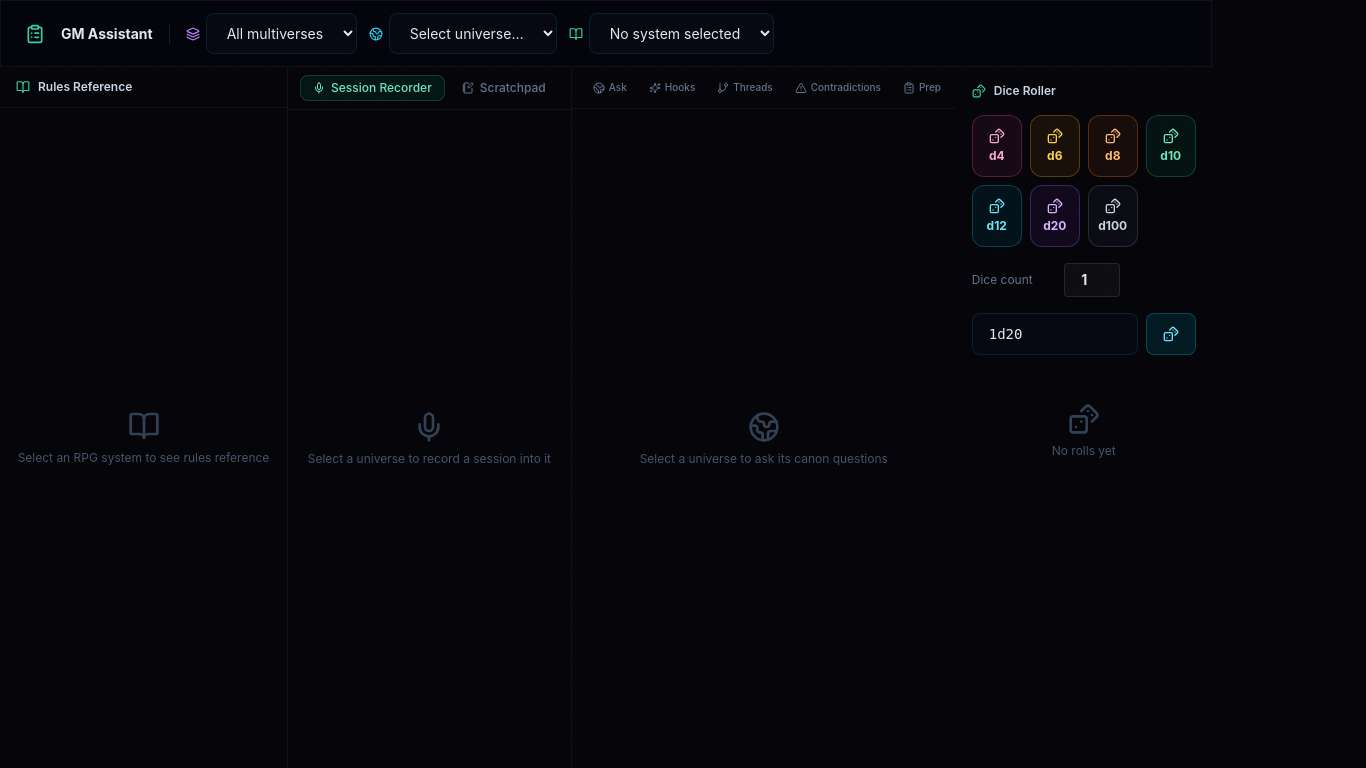
Scenario: GM Assistant rules panel (universe-aware, P2.2) › populates the rules panel from the selected universe's bound system
This screenshot has width=1366, height=768.
Select "Alpha World" in the 2nd dropdown "Alpha World". click: [473, 34]
box: [389,13,557,54]
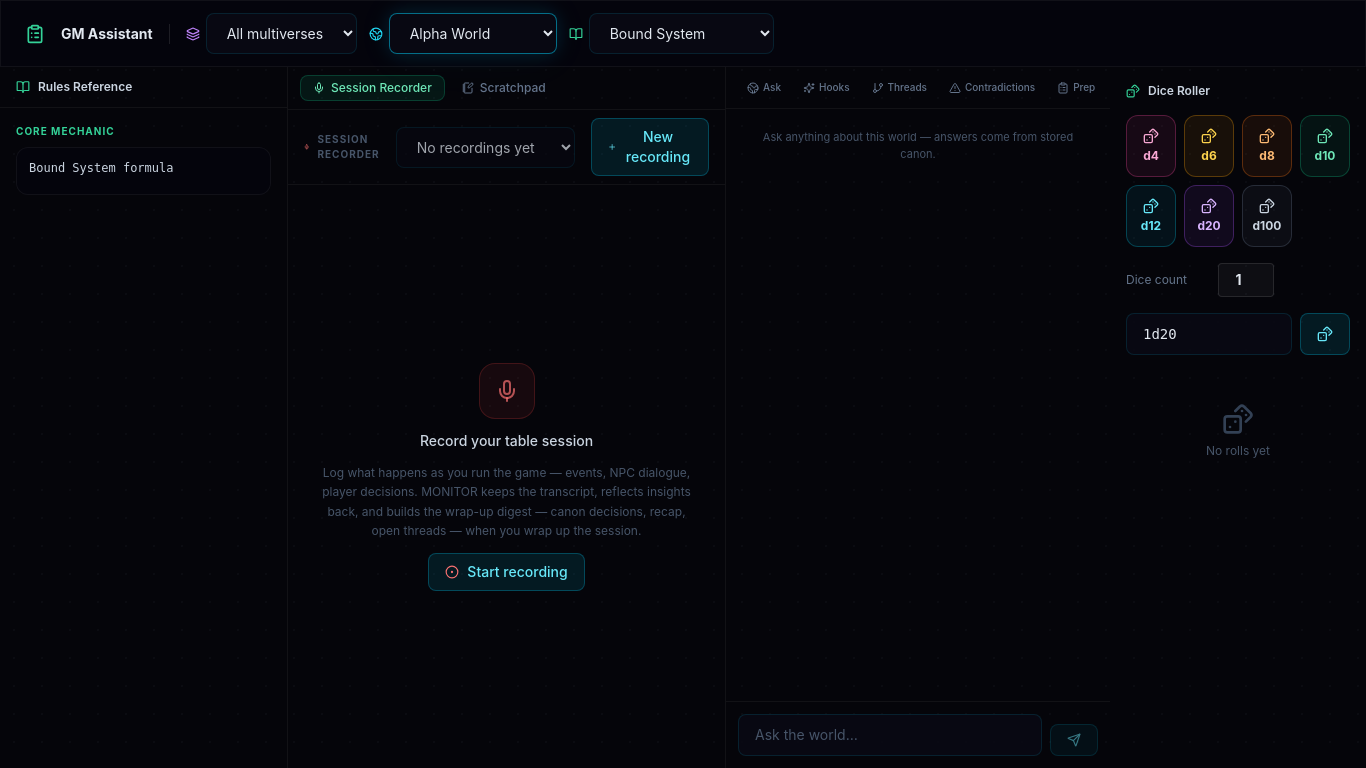
Result: the text "Bound System formula" is shown at [29,161,174,175]
Result: the 3rd dropdown showing "Bound System" is shown at [589,13,774,54]
